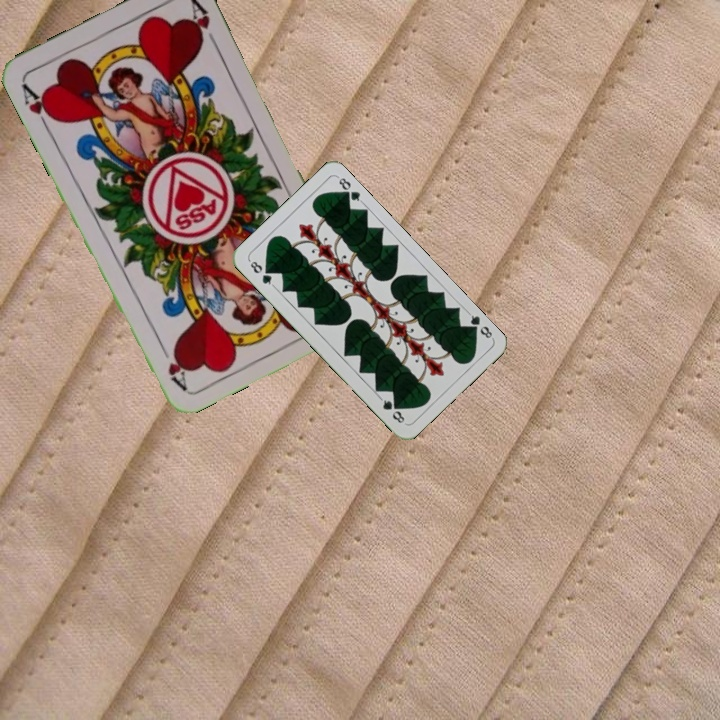G8: (245, 256, 277, 289), (464, 308, 496, 341)
HA: (18, 78, 60, 134)
